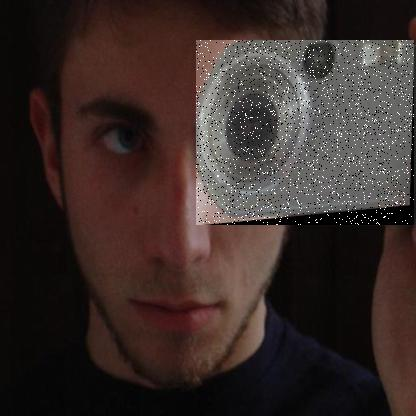Camera: (197, 42, 416, 228)
